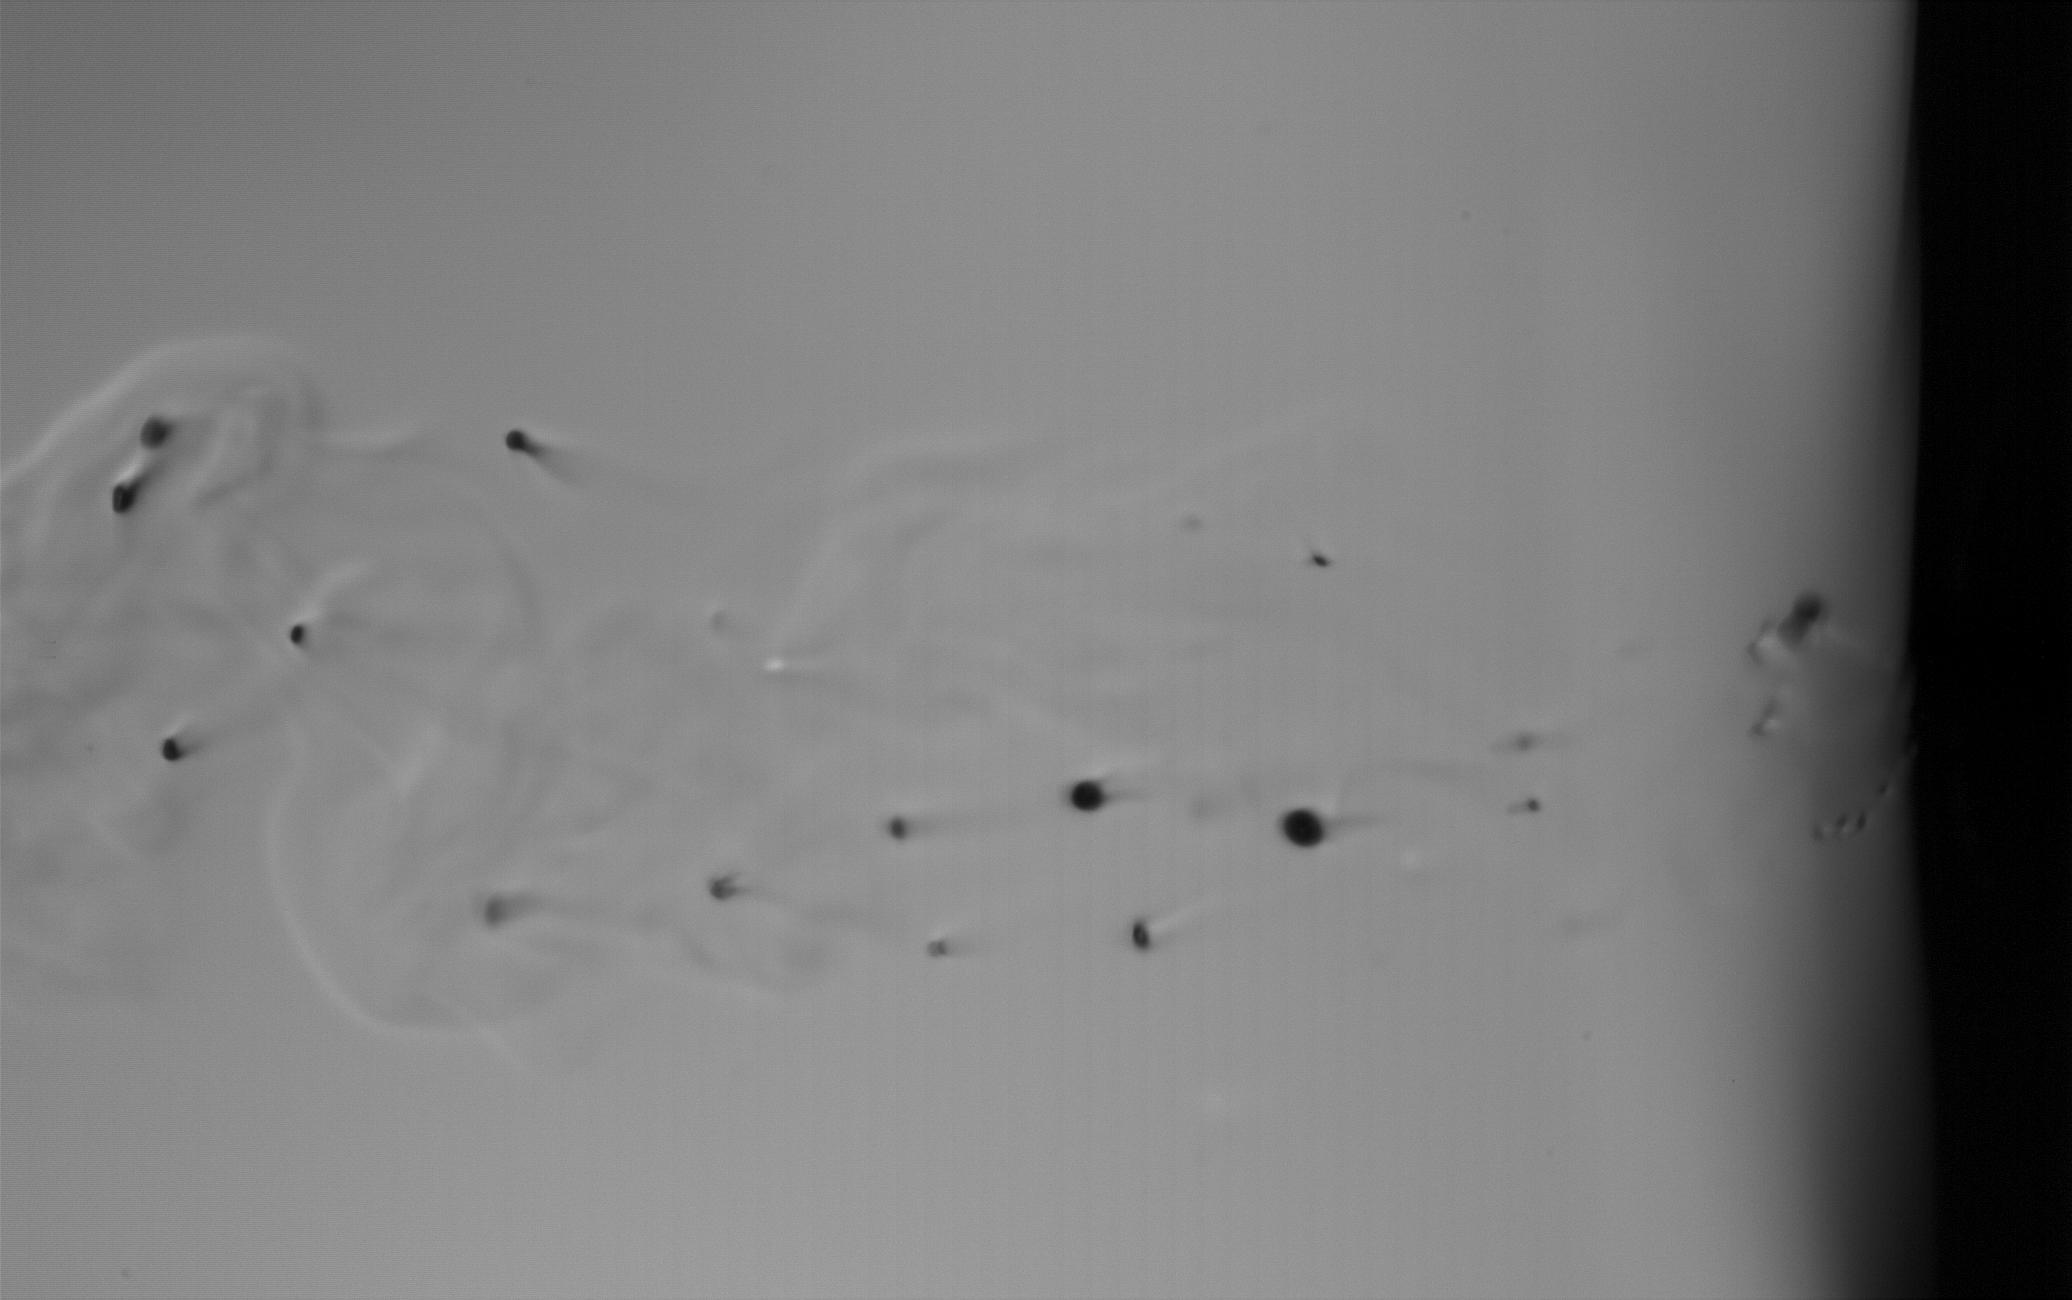Blurry: (1774, 586, 1829, 660), (1743, 681, 1797, 746), (1743, 613, 1776, 675), (475, 891, 527, 929), (702, 598, 735, 646), (701, 869, 737, 909), (1493, 729, 1544, 756), (919, 932, 957, 965), (1508, 791, 1547, 822)
ClassicalEvaporation: (1280, 804, 1331, 860), (1061, 767, 1112, 819), (138, 404, 186, 452), (497, 421, 543, 463), (159, 732, 192, 768)
TransitionalMixing: (108, 458, 153, 523), (1127, 917, 1156, 959), (1302, 550, 1335, 577), (885, 810, 909, 845), (289, 619, 305, 649)
